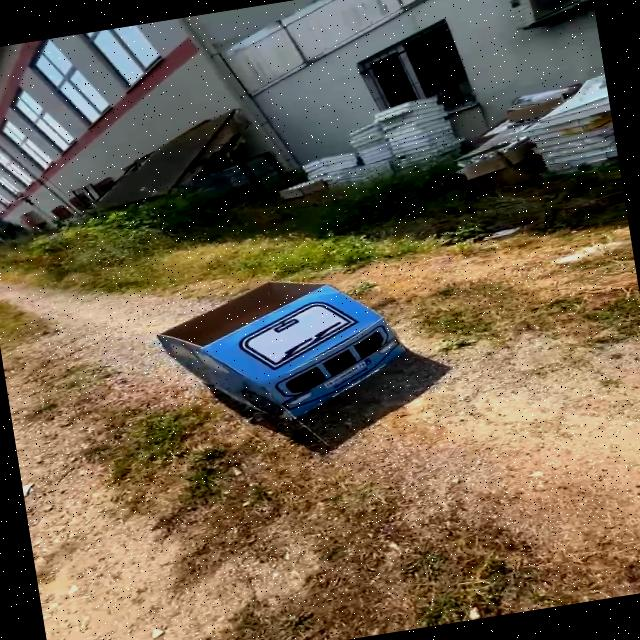blue_car: (133, 242, 437, 458)
